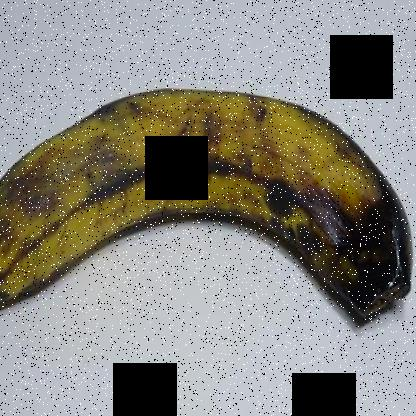overripe: (1, 77, 415, 358)
rotten: (270, 156, 415, 340)
